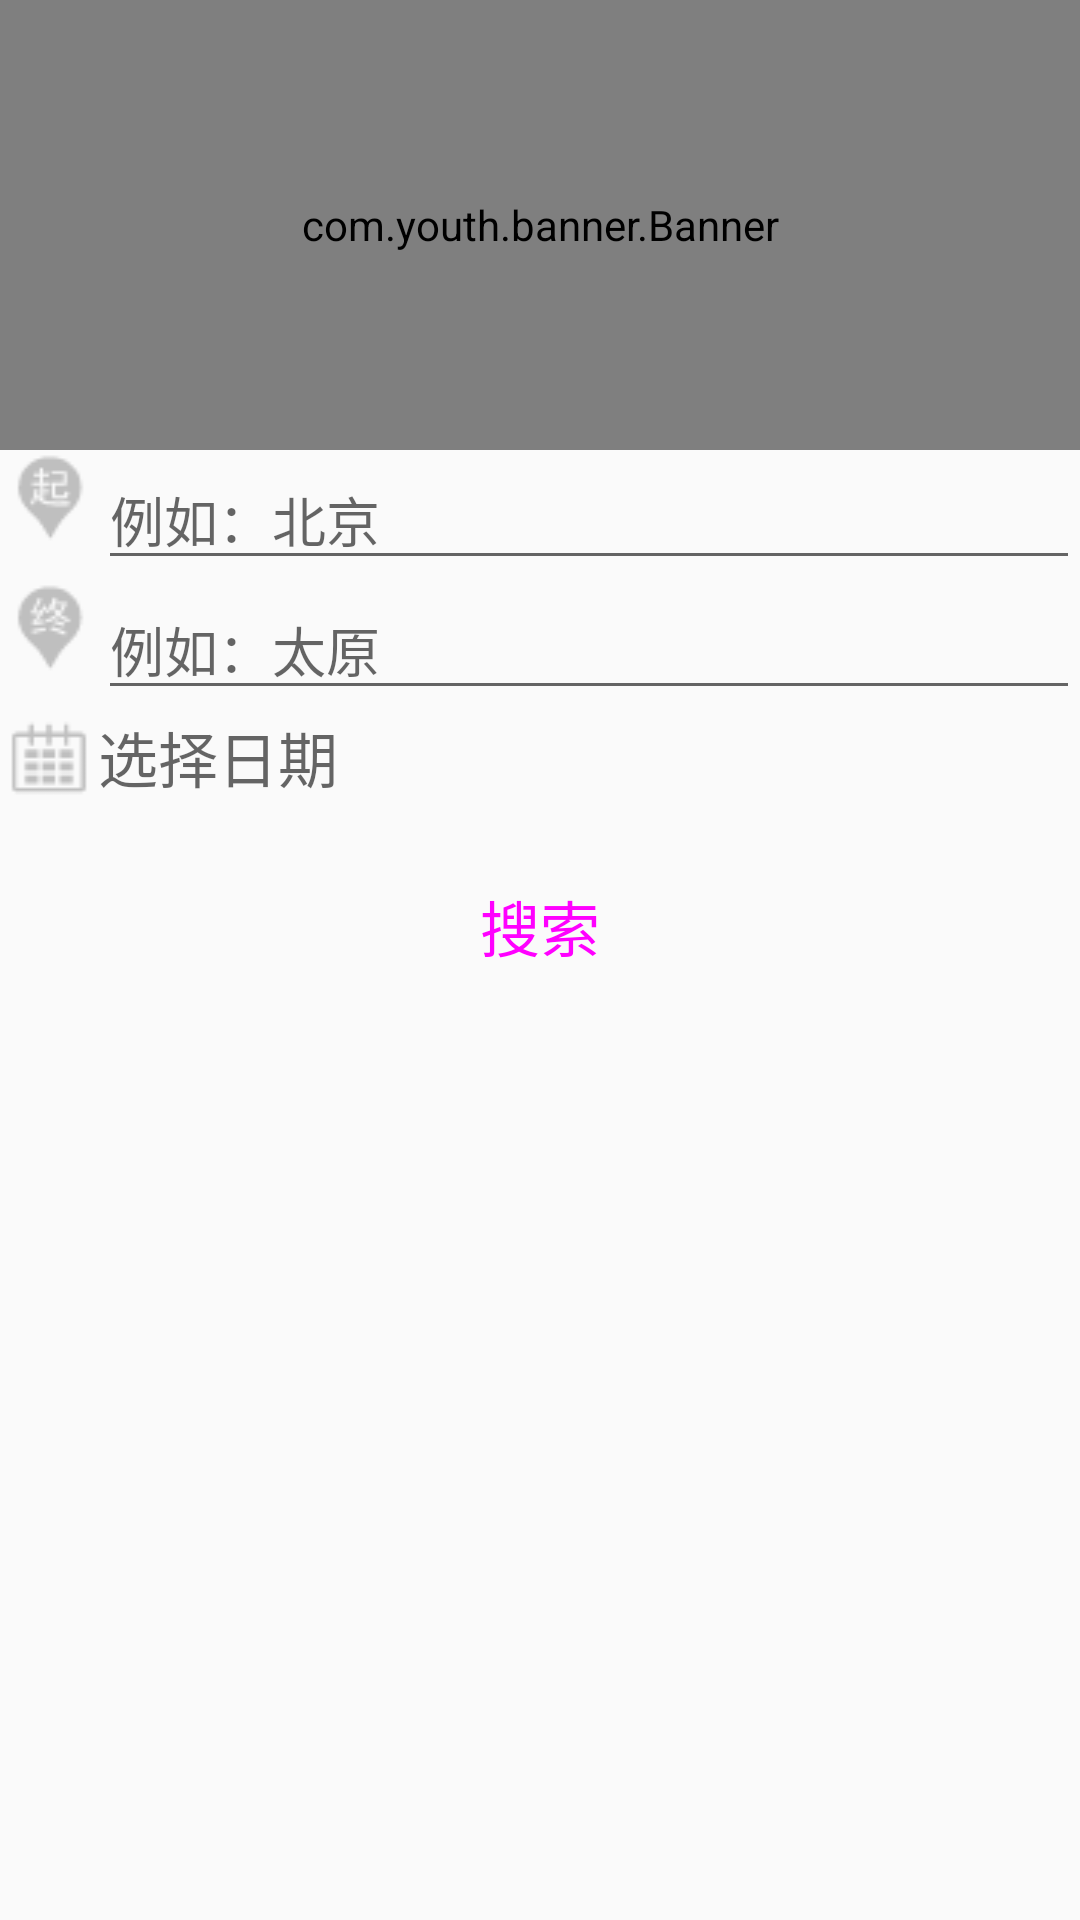

Icon click points for this 1080 × 1920 phone screenshot, format (x=x, y=y):
date: (x=49, y=758)
